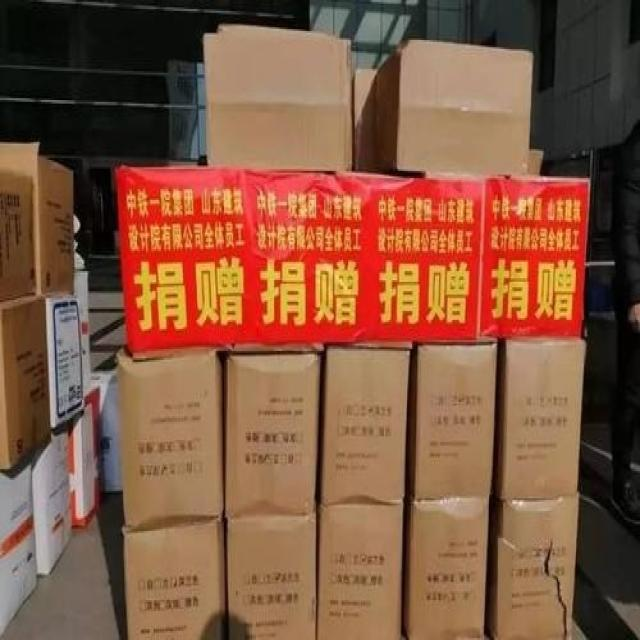box: (373, 42, 532, 178), (202, 26, 351, 170), (117, 344, 225, 531), (223, 353, 320, 520), (495, 337, 587, 499), (321, 345, 409, 507), (486, 495, 578, 637), (414, 344, 496, 502), (402, 497, 492, 638), (125, 516, 224, 638), (317, 505, 404, 638), (0, 143, 76, 295), (227, 512, 316, 638), (0, 291, 51, 481), (0, 462, 39, 638), (71, 372, 114, 529), (31, 427, 74, 576), (46, 292, 85, 436), (1, 171, 34, 302), (352, 68, 378, 172), (75, 272, 93, 404), (528, 150, 544, 178)
